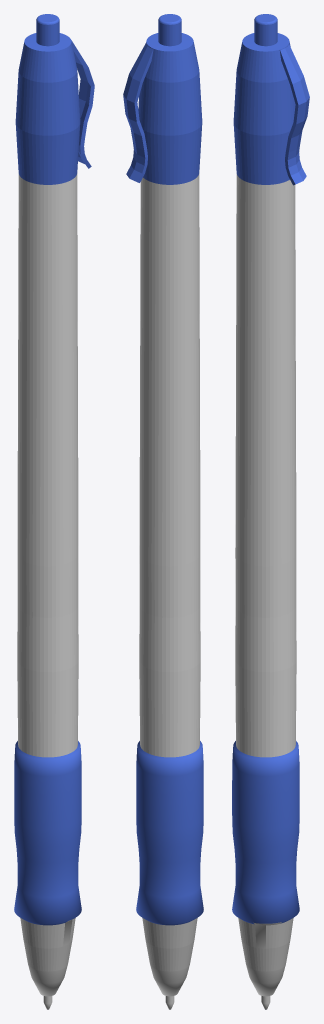
The model's file is pen.fbx.
The picture shows the model from 3 angles, left to right: view 1: azimuth 30°, elevation 25°; view 2: azimuth 210°, elevation 25°; view 3: azimuth 330°, elevation 25°; orthographic projection.
Visible parts, largest first — view 1: BezierCurve.001; view 2: BezierCurve.001; view 3: BezierCurve.001.
Boxes of the visible parts, x1=… form: BezierCurve.001: x1=14, y1=14, x2=94, y2=996; BezierCurve.001: x1=123, y1=14, x2=203, y2=996; BezierCurve.001: x1=232, y1=14, x2=309, y2=996.
Bounding box in the file's own units: 1.49 × 19.84 × 1.23.
